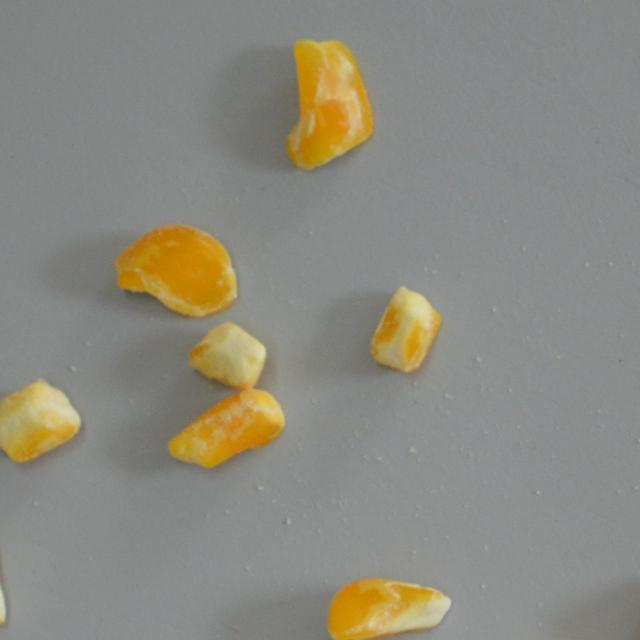dañado: (280, 30, 380, 176), (110, 219, 242, 320), (164, 380, 288, 474), (323, 574, 453, 640), (368, 280, 444, 380), (184, 317, 270, 393), (0, 506, 18, 639)
pelicula: (0, 374, 84, 466)
